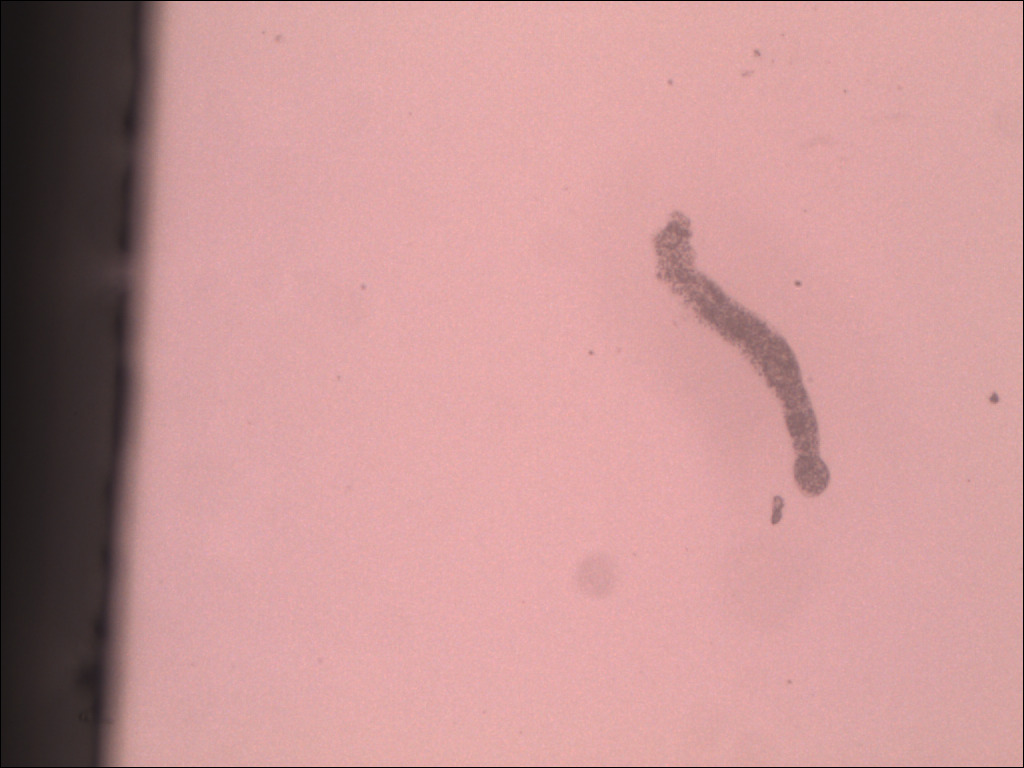amoeba: (632, 200, 855, 503)
